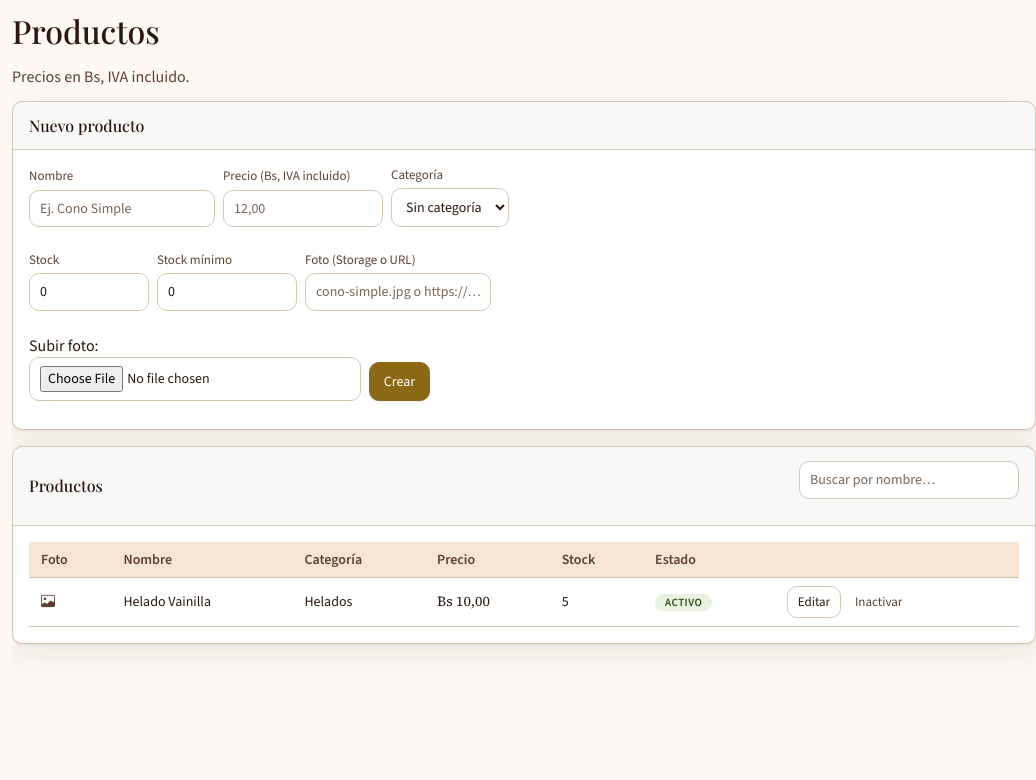
Test: Productos duplicado por categoria › muestra el 409 del backend en el Alert
Expected: the text "Helado Vainilla" is shown, [111, 578, 292, 626]
Type "Cono Nuevo" into the field with placeholder "Ej. Cono Simple" at [122, 208], box [29, 190, 215, 227]
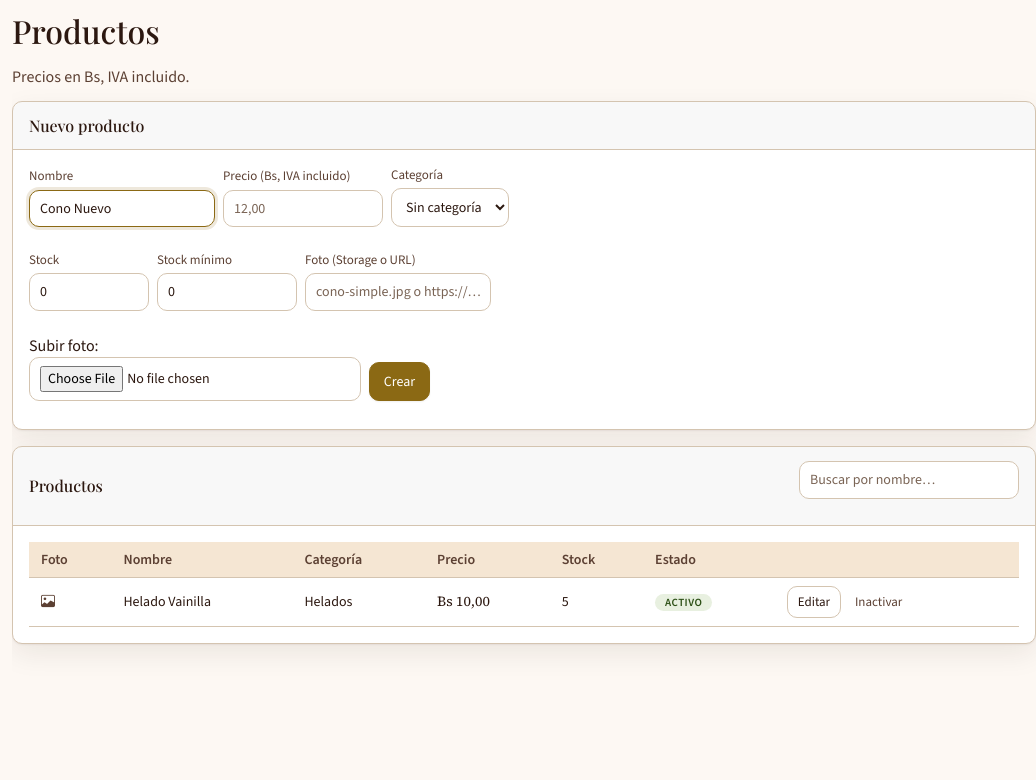
Type "12" into the number field with placeholder "12,00" at [303, 208], box [223, 190, 383, 227]
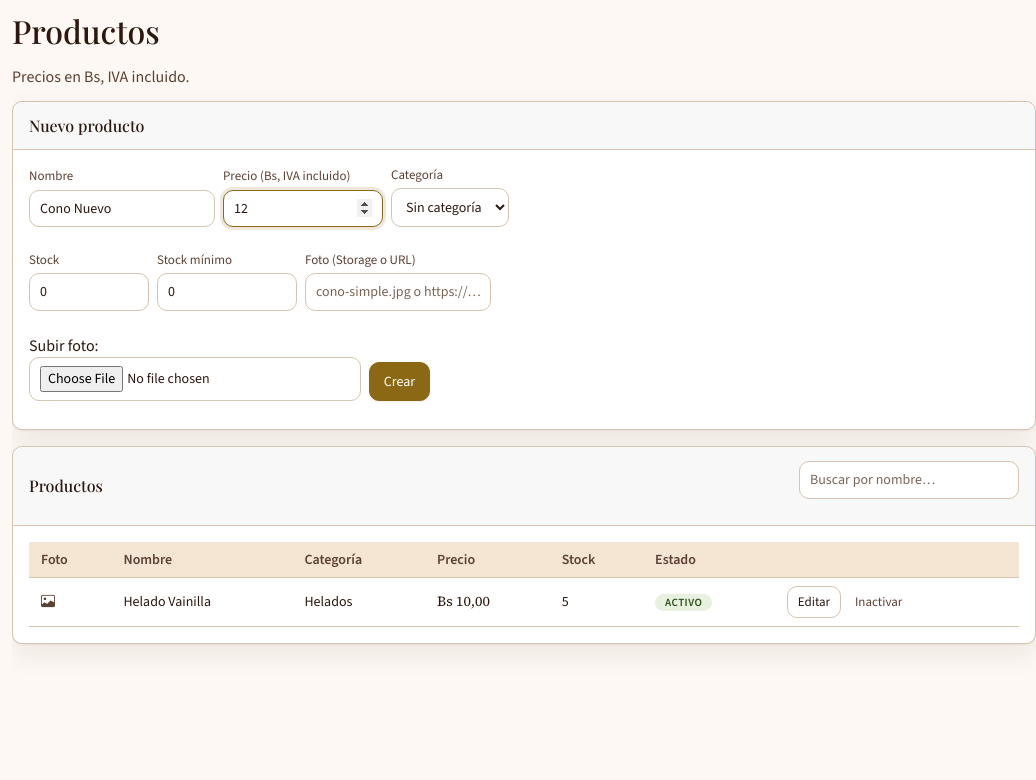
Click the button "Crear" at [400, 381], box [369, 362, 430, 401]
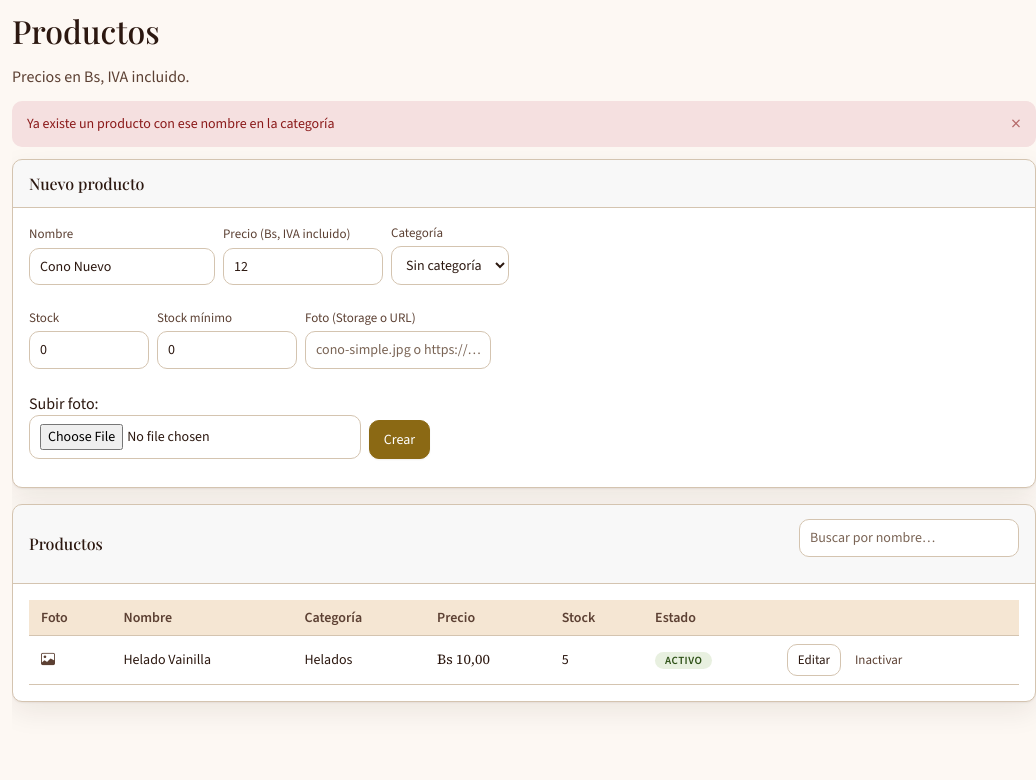
Expected: the text "Ya existe un producto con ese nombre en la categoría" is shown, [27, 114, 334, 133]
